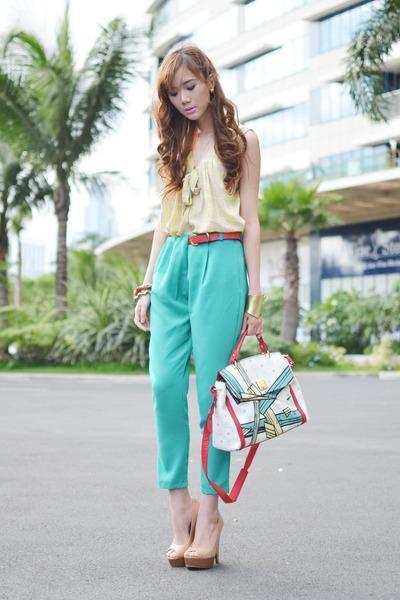bag: (201, 324, 306, 502)
pants: (146, 234, 249, 496)
shirt: (147, 134, 243, 235)
shoe: (166, 532, 231, 575)
